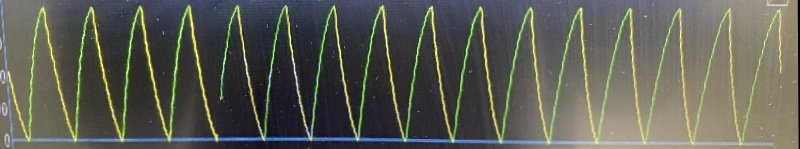normal_volume: (14, 1, 749, 147)
